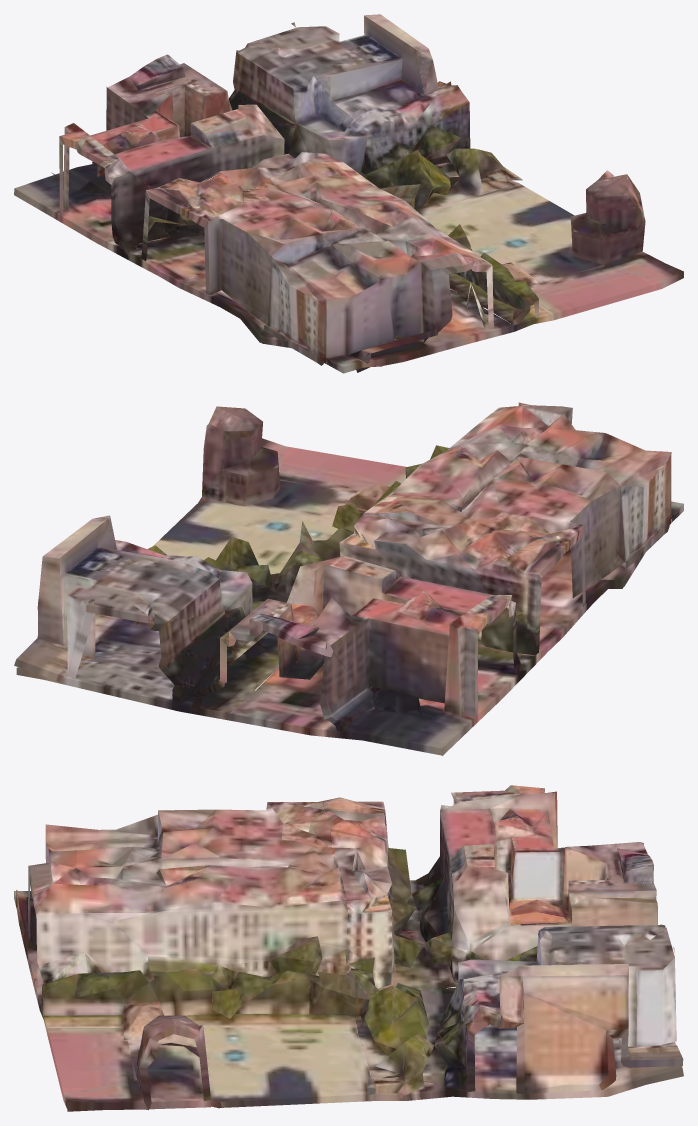
3 renders of one model, top to bottom at view 1: azimuth 30°, elevation 25°; view 2: azimuth 150°, elevation 25°; view 3: azimuth 270°, elevation 25°, orthographic. The views are drawn at different scales.
Parts seen in each view (by area): view 1: Mesh_0; view 2: Mesh_0; view 3: Mesh_0.
Boxes of the visible parts, x1,y1,x2,y2 form: Mesh_0: (14, 14, 683, 373); Mesh_0: (14, 402, 683, 755); Mesh_0: (14, 785, 683, 1111).
Bounding box in the file's own units: 133 × 32.98 × 165.
Materials: 2 (2 with a texture image).
